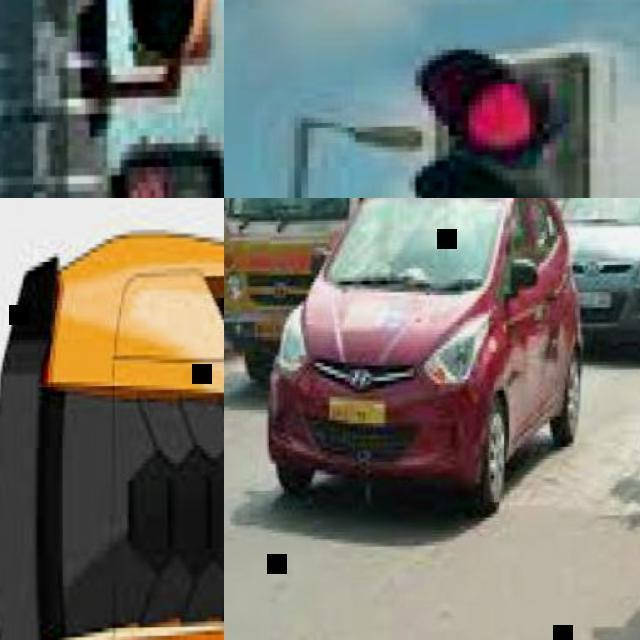car: (268, 132, 580, 516), (93, 96, 223, 192)
